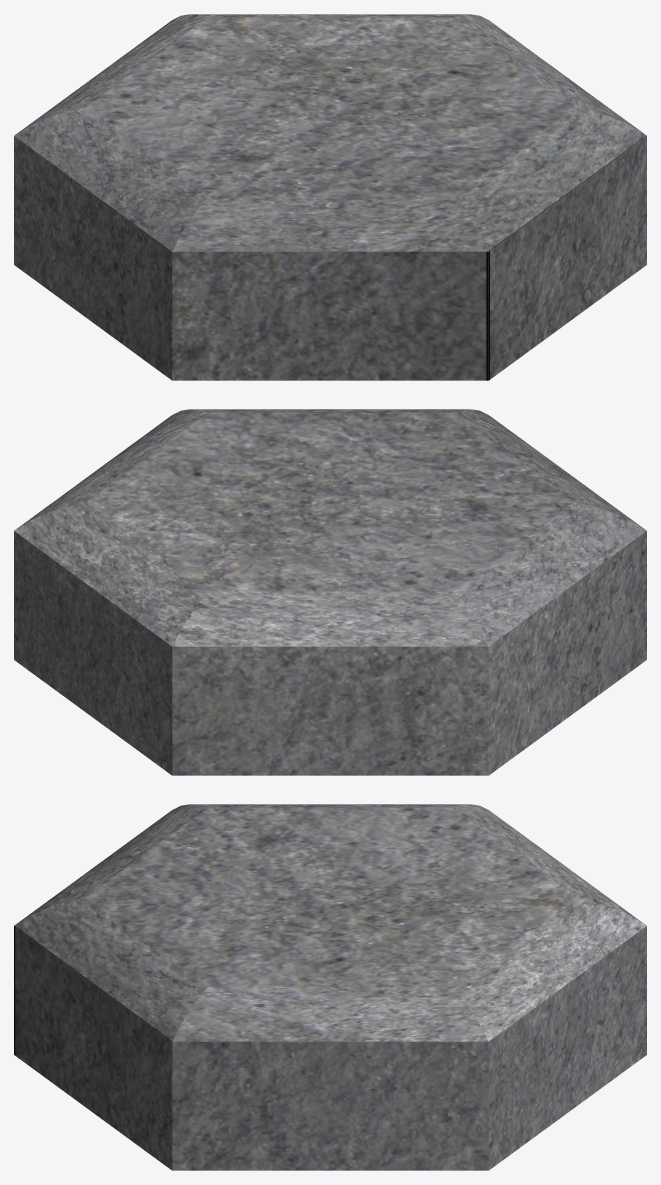
The model's file is DAEstone.dae.
The picture shows the model from 3 angles, top to bottom: view 1: azimuth 30°, elevation 25°; view 2: azimuth 150°, elevation 25°; view 3: azimuth 270°, elevation 25°; orthographic projection.
Parts seen in each view (by area): view 1: PolyLowRes; view 2: PolyLowRes; view 3: PolyLowRes.
Boxes of the visible parts, x1,y1,x2,y2 form: PolyLowRes: (14,14,646,380); PolyLowRes: (14,409,646,775); PolyLowRes: (14,804,646,1170).
Size of the model in its own units: 1.73 by 2 by 0.55.
1 material, 1 textured.
